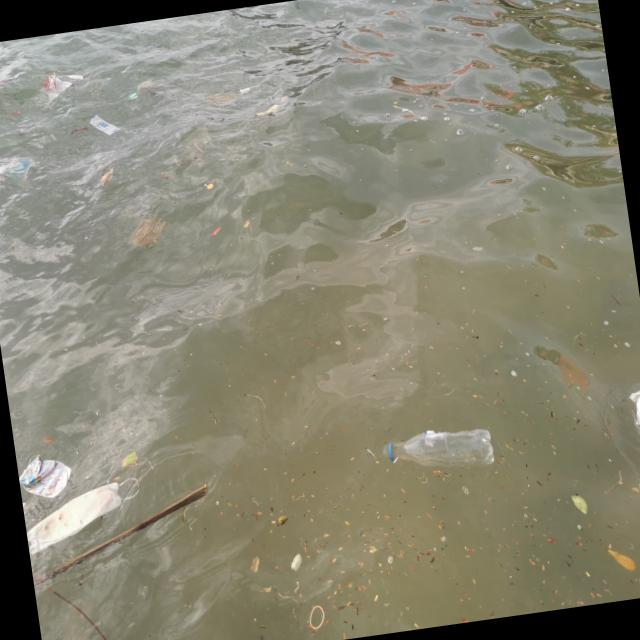foam: (626, 385, 640, 466)
plastic bottle: (384, 423, 497, 482)
